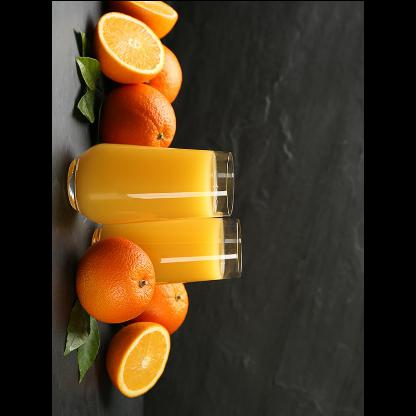orange juice: (74, 142, 218, 226), (96, 216, 226, 284)
